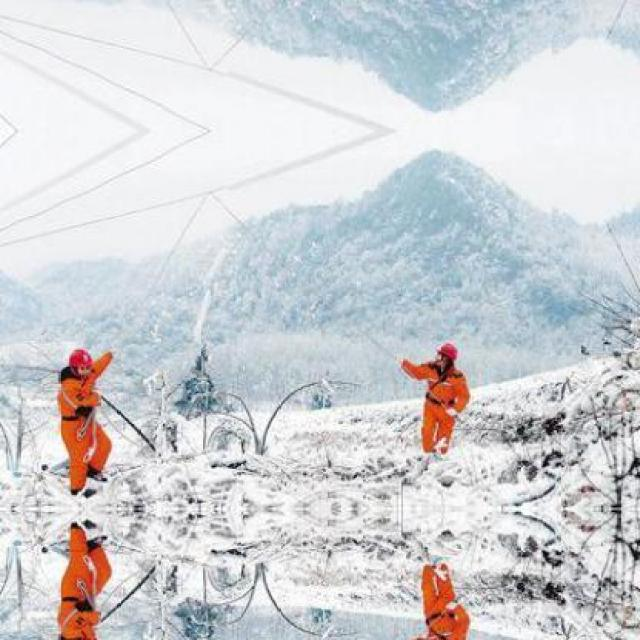Helmet: (66, 348, 94, 374), (436, 339, 458, 367)
